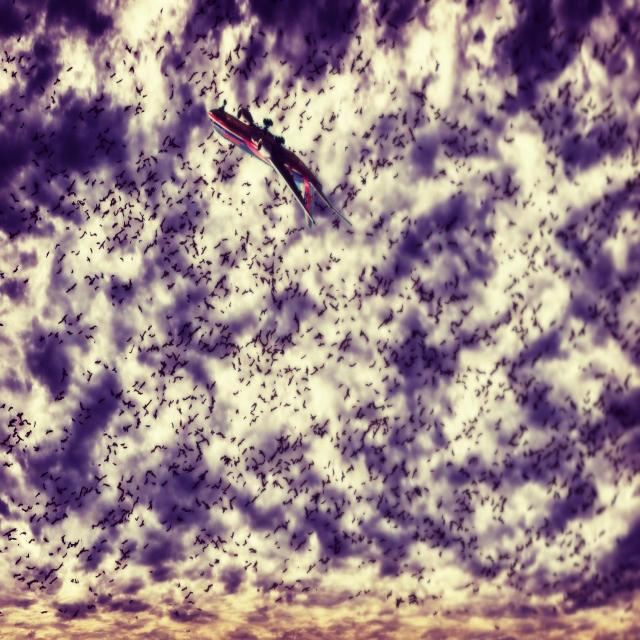airplane: (208, 105, 354, 232)
